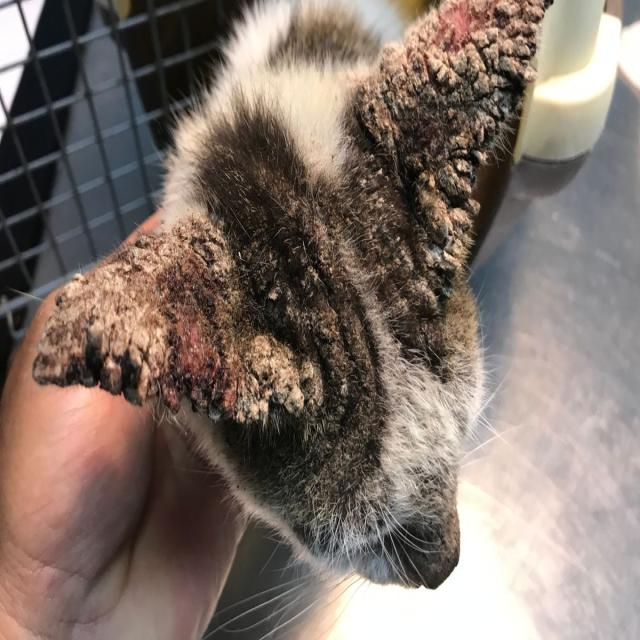cat-scabies: (66, 258, 284, 405), (414, 8, 536, 99), (384, 113, 478, 206), (393, 215, 461, 310)
